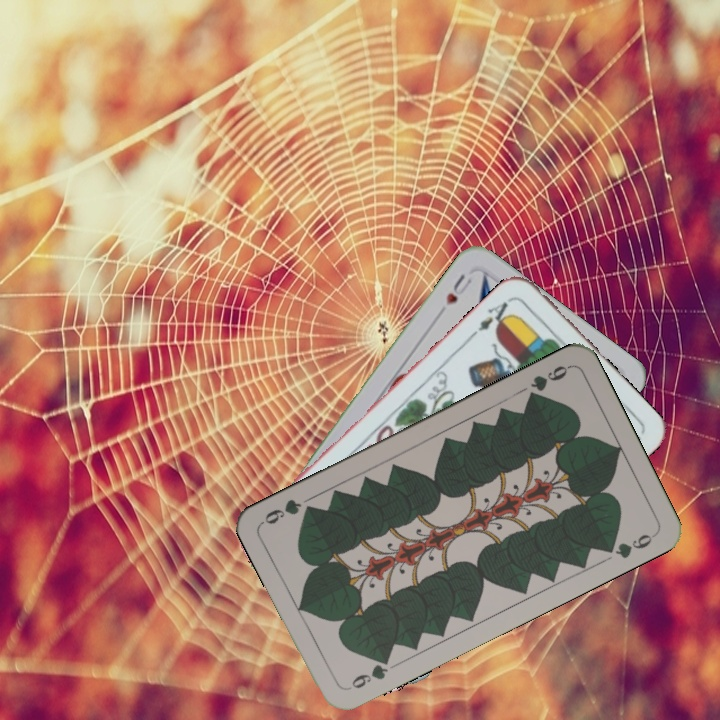EA: (468, 294, 516, 339)
G9: (523, 361, 573, 404), (343, 652, 394, 693)
HU: (441, 269, 475, 307)
